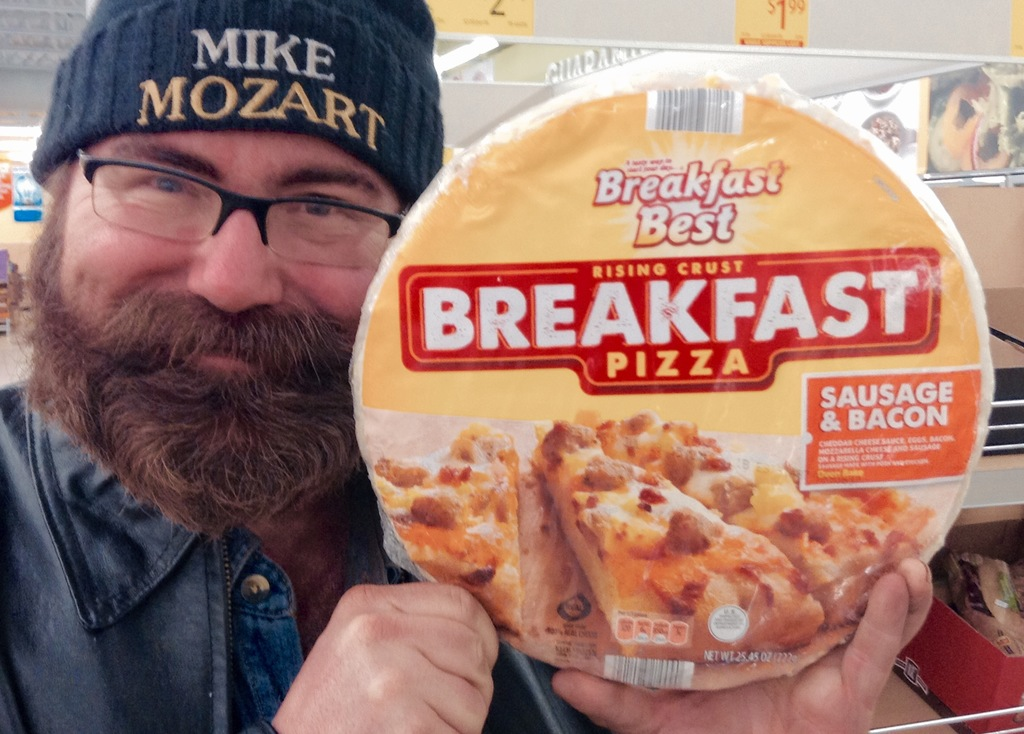Pizza: (529, 412, 823, 666), (596, 413, 935, 621), (368, 419, 522, 630)
